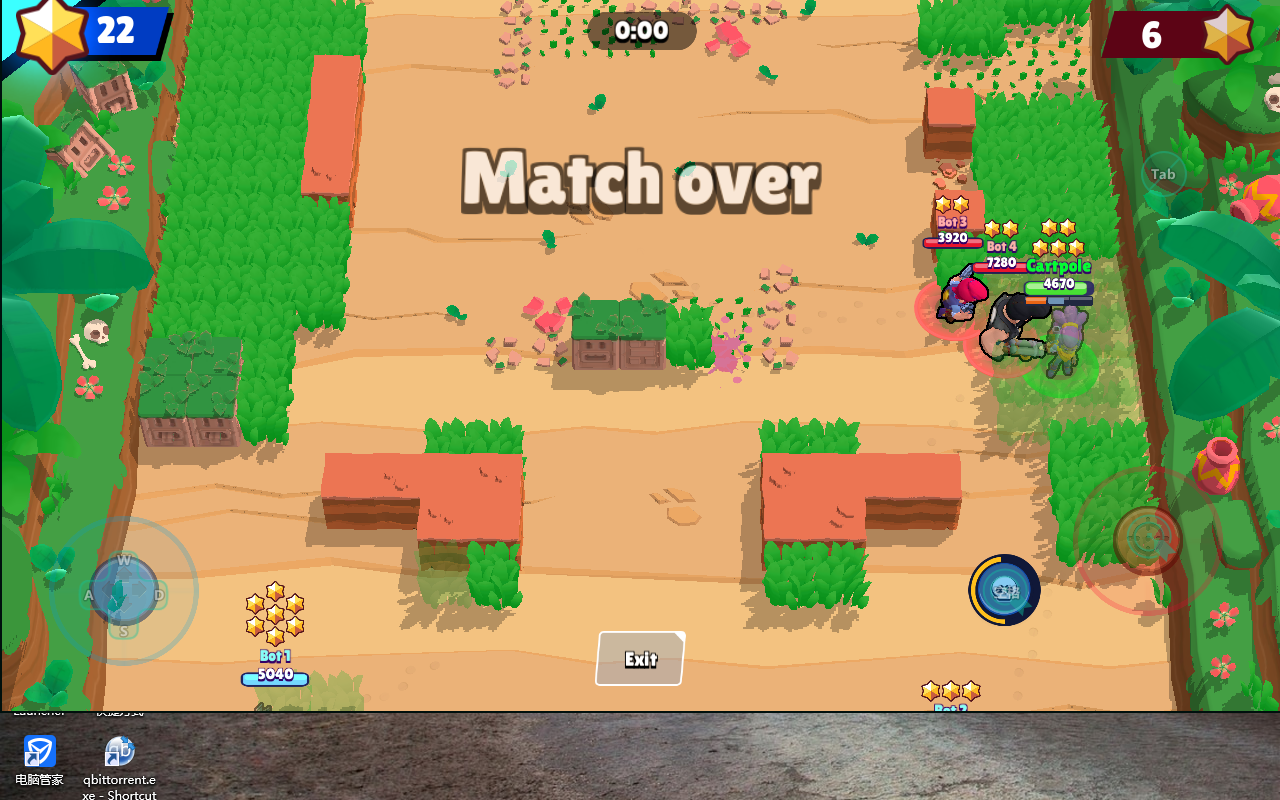current_player: (1025, 335, 1097, 400)
